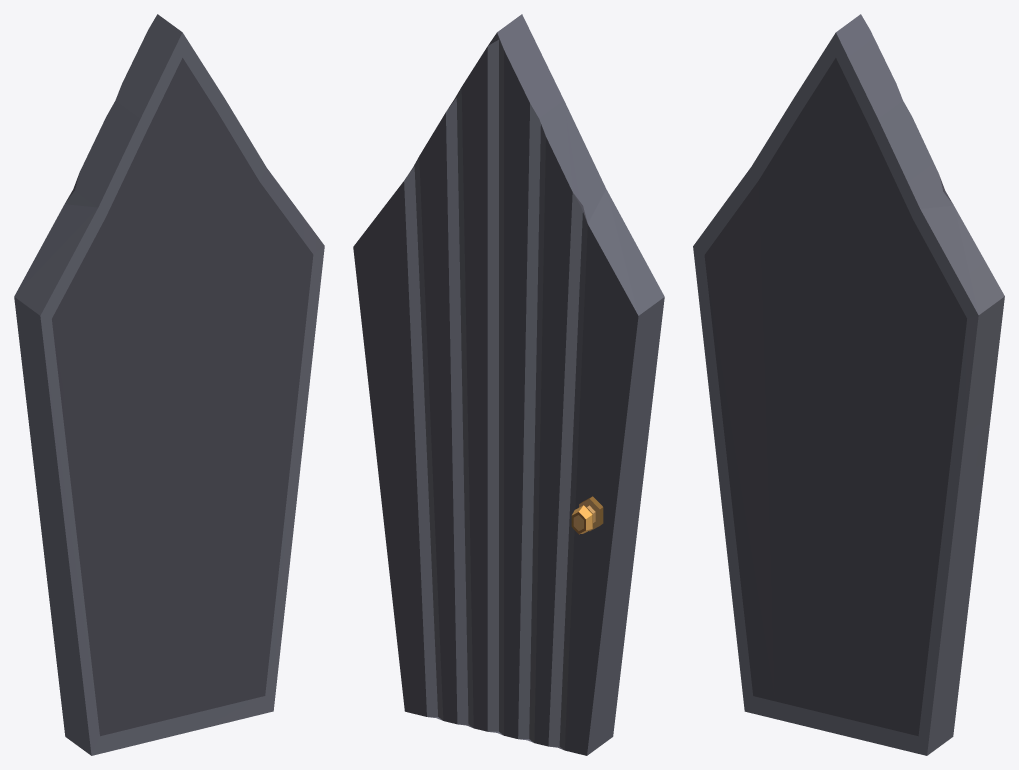
Rendered from Door_House.glb.
The picture shows the model from 3 angles, left to right: view 1: azimuth 30°, elevation 25°; view 2: azimuth 150°, elevation 25°; view 3: azimuth 330°, elevation 25°; orthographic projection.
Visible parts, largest first — view 1: Door_House; view 2: Door_House; view 3: Door_House.
Part boxes in pixels (x1=…): Door_House: x1=14, y1=14, x2=324, y2=755; Door_House: x1=353, y1=14, x2=664, y2=755; Door_House: x1=693, y1=14, x2=1004, y2=755.
Size of what is drawn, in the model's own units: 1.85 by 4.35 by 0.4573.
Materials: 1 (1 with a texture image).
